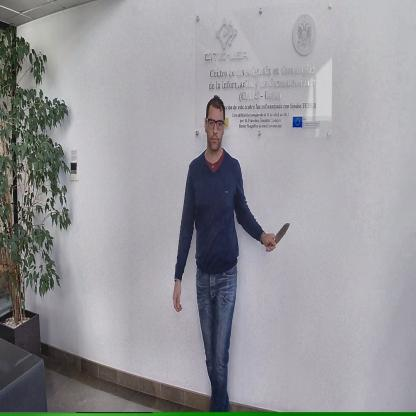knife: (264, 219, 292, 254)
